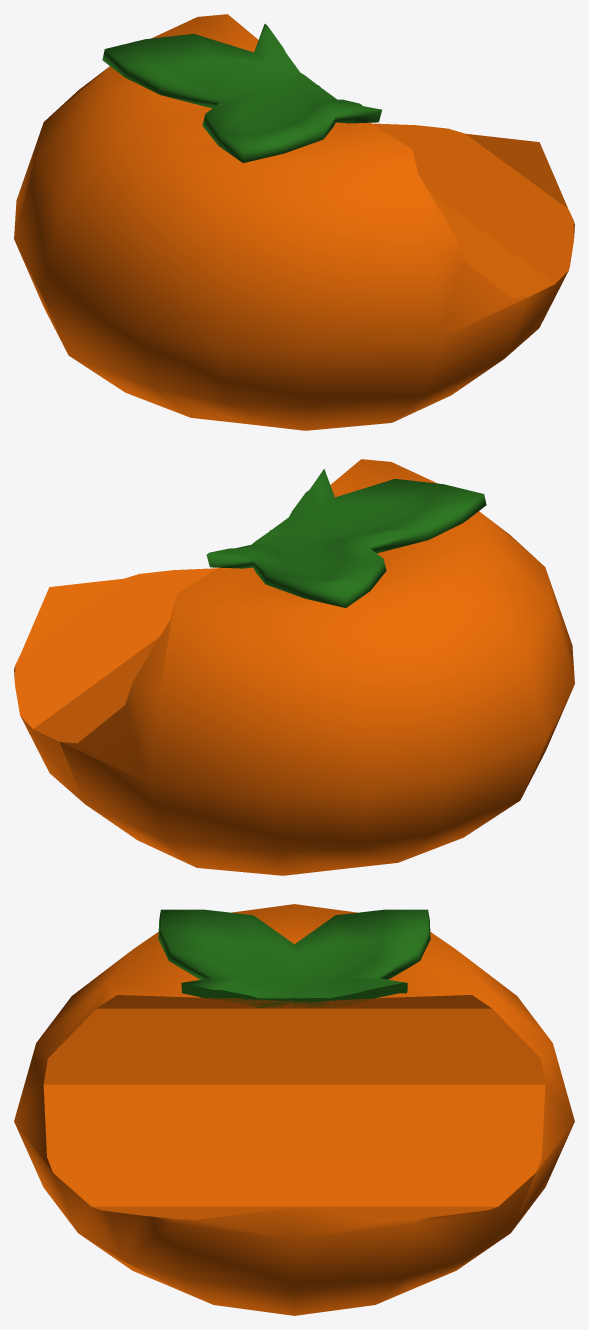
File: Cut_kaki.fbx
The picture shows the model from 3 angles, top to bottom: view 1: azimuth 30°, elevation 25°; view 2: azimuth 150°, elevation 25°; view 3: azimuth 270°, elevation 25°; orthographic projection. The views are drawn at different scales.
Parts seen in each view (by area): view 1: Base.011, heta.001; view 2: Base.011, heta.001; view 3: Base.011, heta.001.
Boxes of the visible parts, x1,y1,x2,y2 form: Base.011: (14,14,574,430); heta.001: (102,24,382,162); Base.011: (14,459,574,875); heta.001: (206,469,486,607); Base.011: (14,904,574,1315); heta.001: (158,909,430,1008).
Size of the model in its own units: 1.81 by 0.9606 by 1.81.
